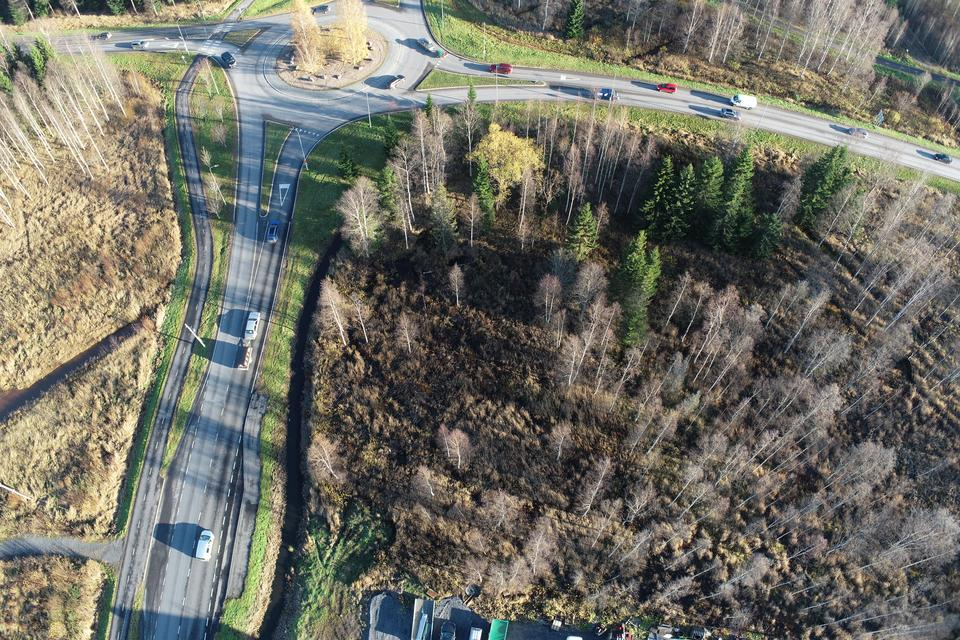intersection: (81, 515, 267, 591), (176, 16, 231, 78)
roundabout: (234, 1, 462, 141)
